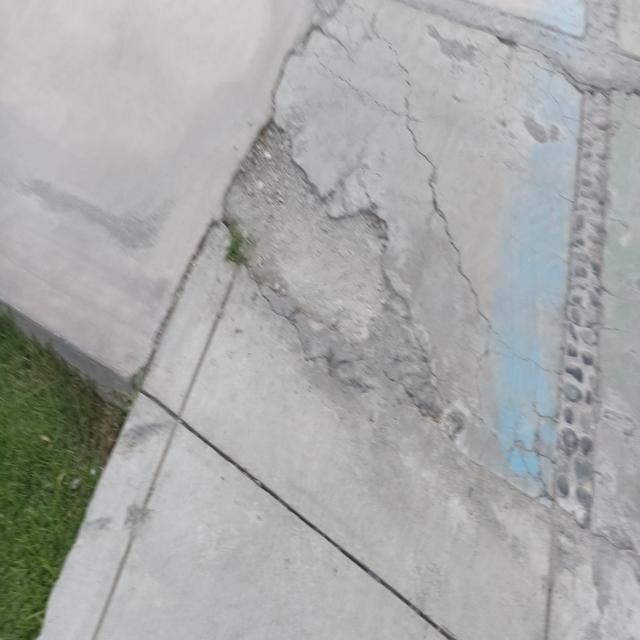hole: (218, 113, 434, 414)
